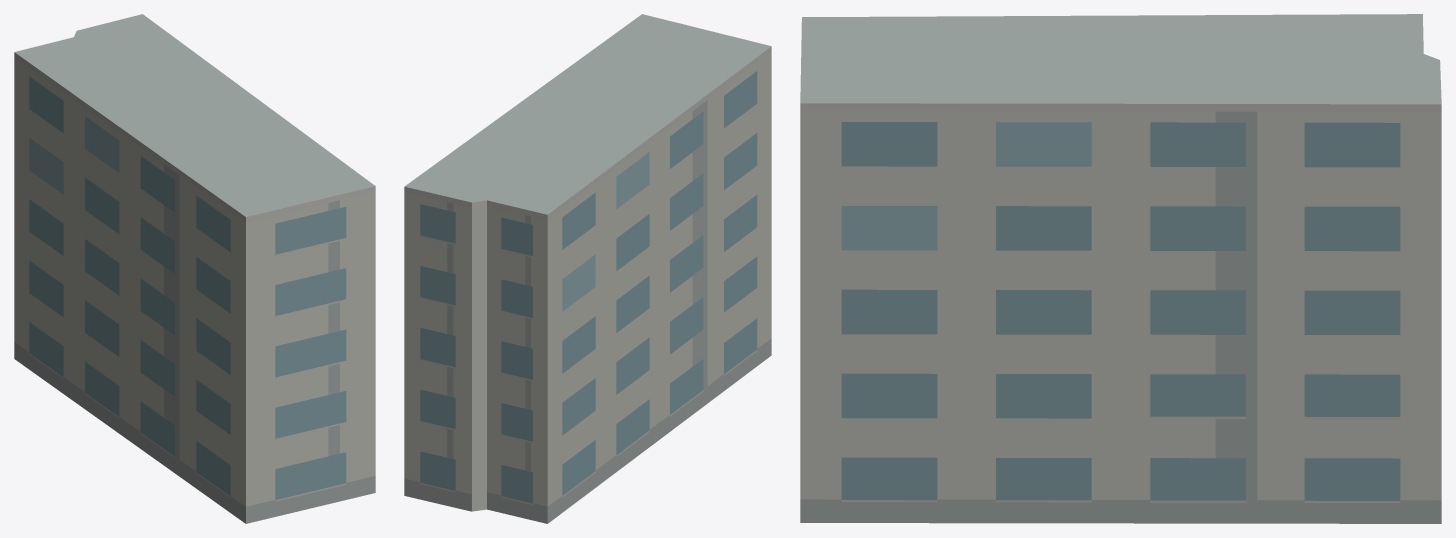
The model's file is survey-upis-32971094.glb.
3 views of the same model, side by side, from view 1: azimuth 30°, elevation 25°; view 2: azimuth 150°, elevation 25°; view 3: azimuth 270°, elevation 25° (orthographic). The views are drawn at different scales.
Parts seen in each view (by area): view 1: survey-upis-32971094.tmp; view 2: survey-upis-32971094.tmp; view 3: survey-upis-32971094.tmp.
Part boxes in pixels (x1,y1,x2,y2): survey-upis-32971094.tmp: [14, 14, 375, 523]; survey-upis-32971094.tmp: [404, 14, 771, 523]; survey-upis-32971094.tmp: [800, 14, 1441, 523].
Size of the model in its own units: 6.2 by 13.4 by 18.58.
